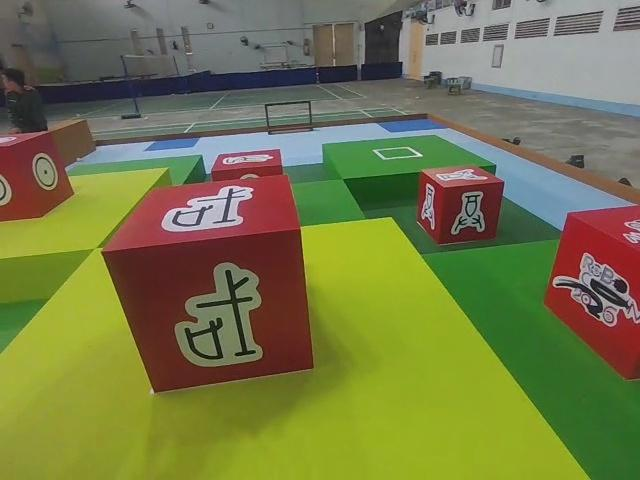R1: (540, 206, 640, 380)
R2 Real: (101, 173, 317, 397), (416, 165, 503, 251), (0, 132, 73, 223)
